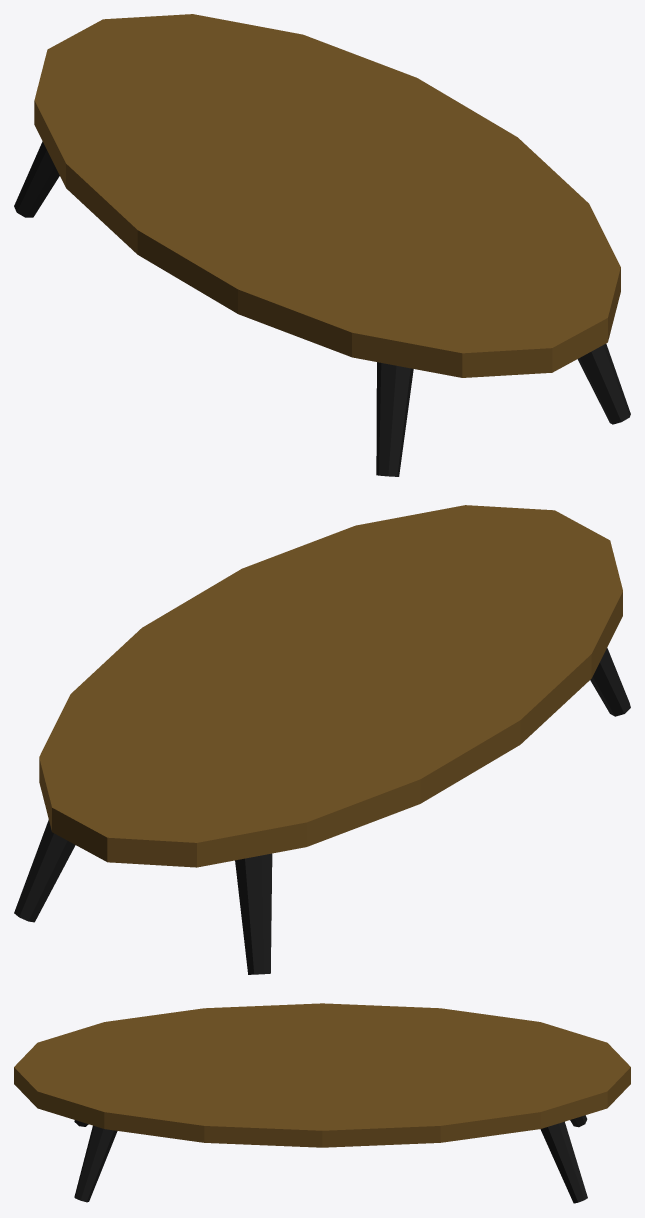
The model's file is round_coffe_table.glb.
The picture shows the model from 3 angles, top to bottom: view 1: azimuth 30°, elevation 25°; view 2: azimuth 150°, elevation 25°; view 3: azimuth 270°, elevation 25°; orthographic projection. The views are drawn at different scales.
Visible parts, largest first — view 1: Surface, Leg, Leg.001, Leg.002; view 2: Surface, Leg.002, Leg.003, Leg; view 3: Surface, Leg.003, Leg.001.
Part boxes in pixels (x1,y1,x2,y2): Surface: [34, 14, 620, 377]; Leg: [376, 362, 413, 476]; Leg.001: [577, 344, 630, 424]; Leg.002: [14, 141, 59, 217]; Surface: [39, 505, 622, 867]; Leg.002: [235, 853, 272, 974]; Leg.003: [14, 819, 75, 922]; Leg: [590, 648, 630, 716]; Surface: [14, 1003, 630, 1147]; Leg.003: [540, 1121, 587, 1203]; Leg.001: [74, 1125, 117, 1202].
Size of the model in its own units: 2 by 0.707 by 4.09.
